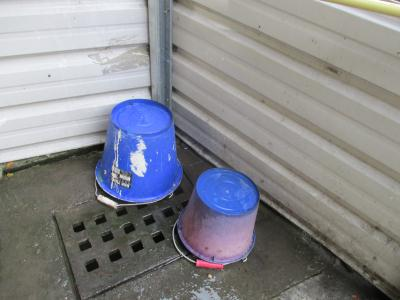bucket: (90, 97, 187, 206), (174, 165, 261, 268)
